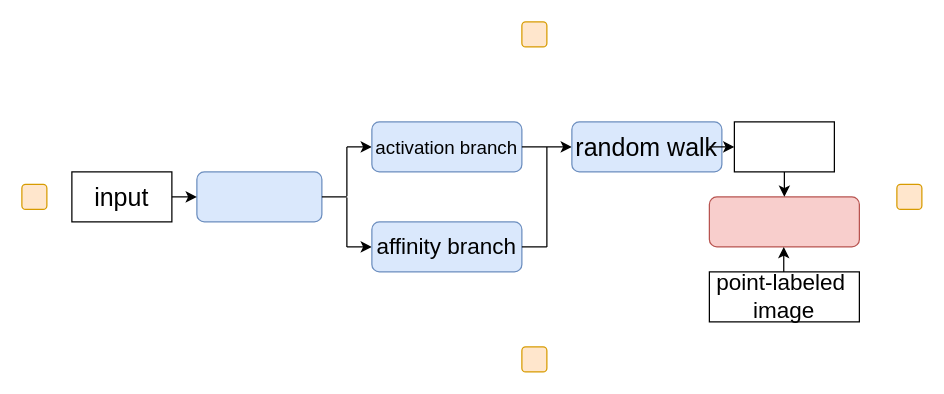
Image size: 944x394. Some labels were removed from this diagram. Each missing label, with the box of its shape:
backbone: (196, 171, 322, 222)
loss: (708, 196, 859, 247)
mask: (733, 121, 834, 172)
